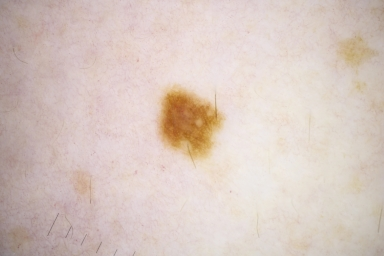nevus: (162, 86, 224, 164)
